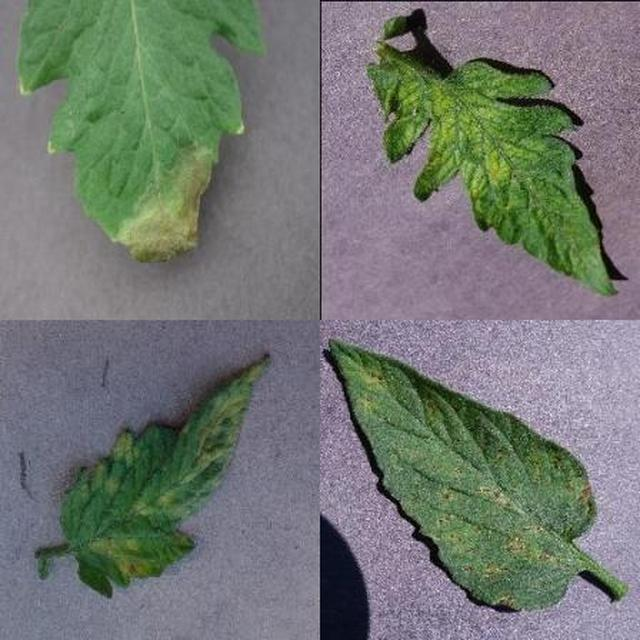Late Blight Leaf: (205, 190, 640, 640)
